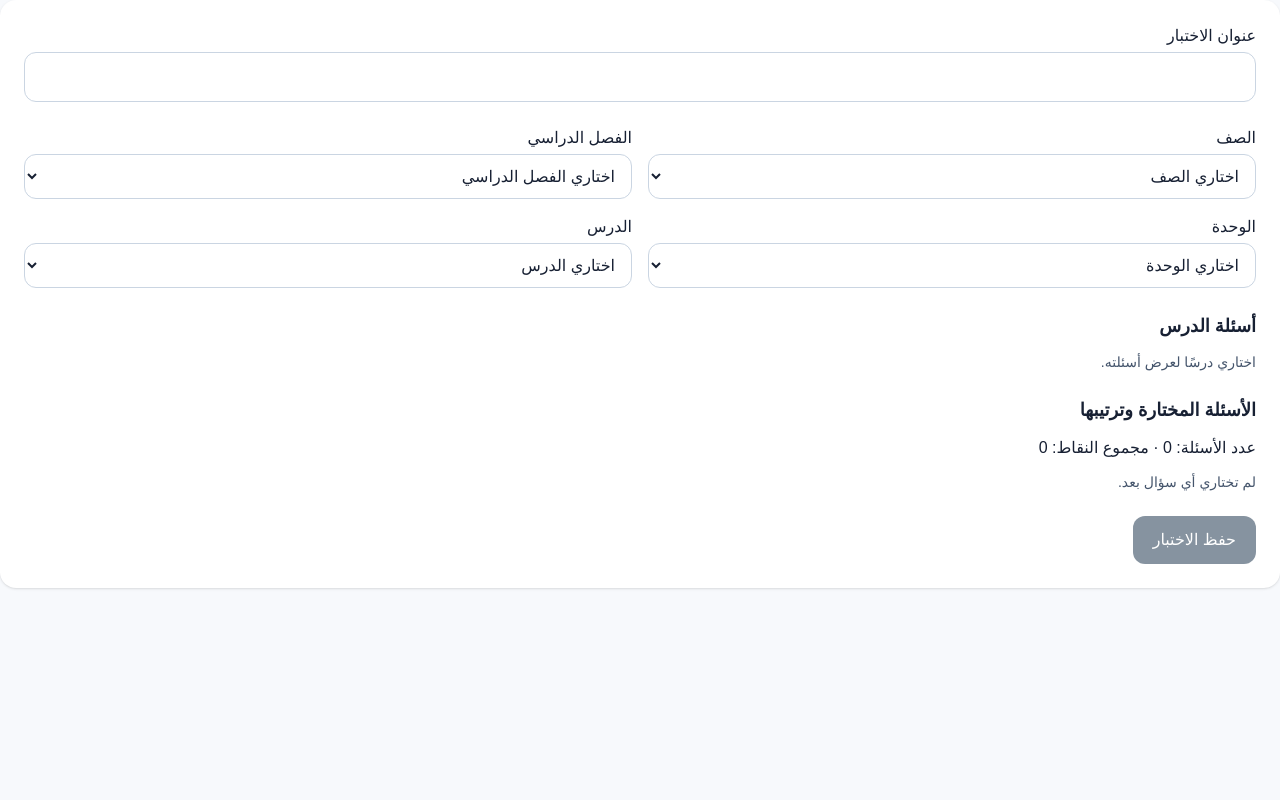
assessment creation form › clears selected questions when the lesson changes
Step 1. Select "الصف السادس" in the dropdown labelled "الصف" → (952,176), box [648, 154, 1256, 199]
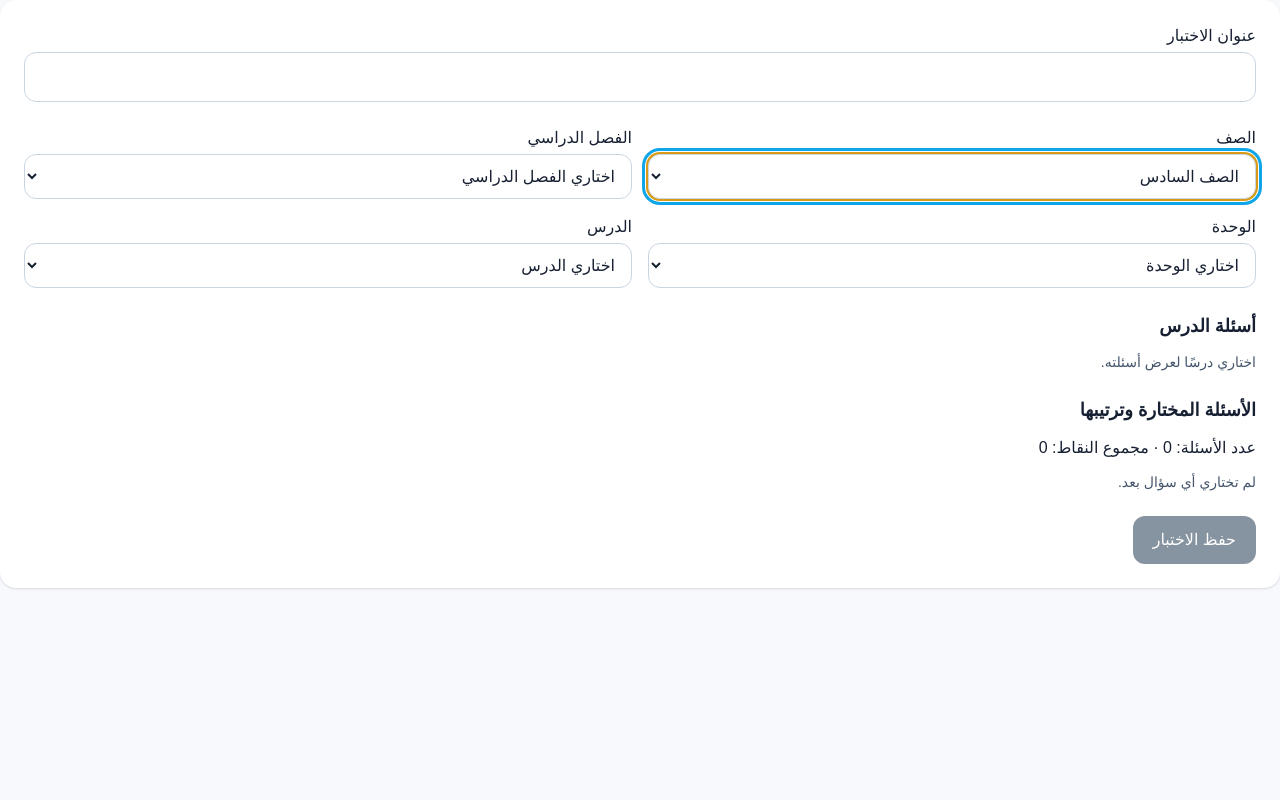
Step 2. Select "الفصل الدراسي الأول ( 2026-2027 )" in the dropdown labelled "الفصل الدراسي" → (328,176), box [24, 154, 632, 199]
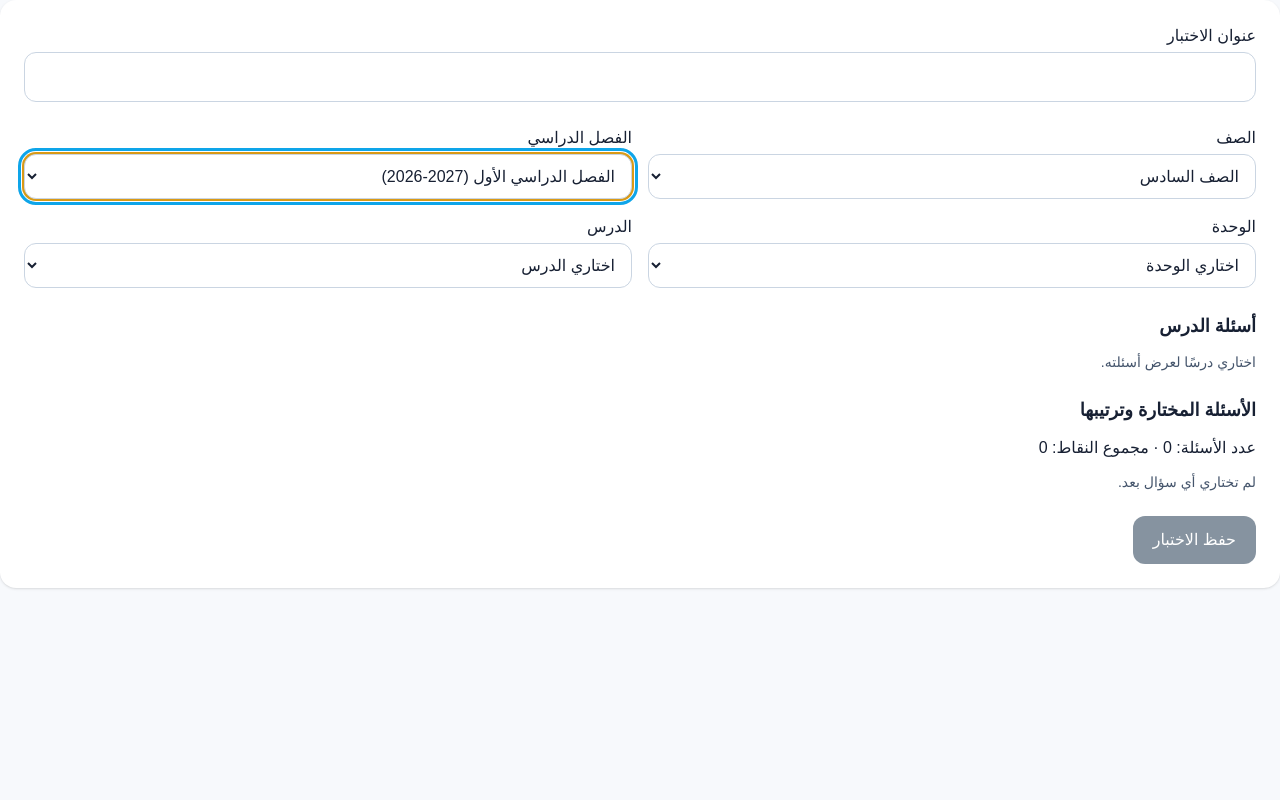
Step 3. Select "من الخلية إلى الجسم" in the dropdown labelled "الوحدة" → (952,266), box [648, 243, 1256, 288]
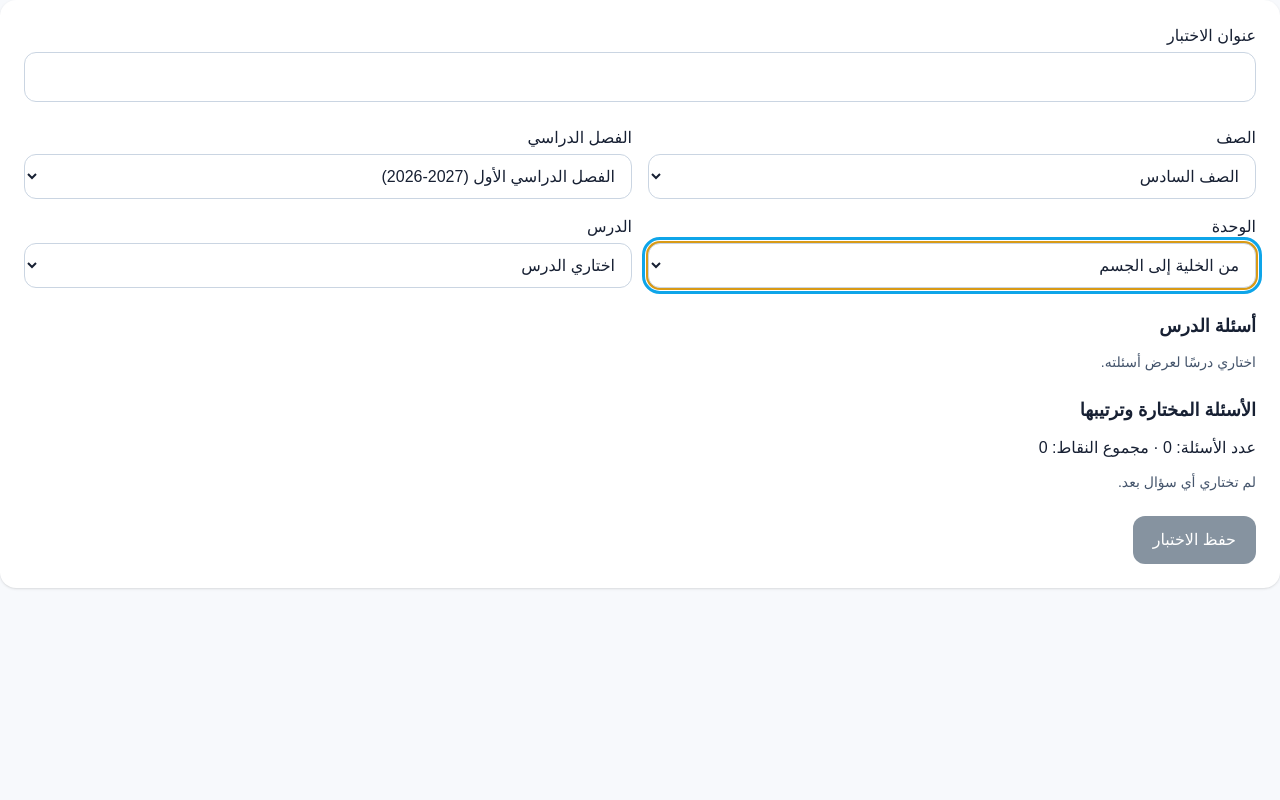
Step 4. Select "الخلية" in the dropdown labelled "الدرس" → (328,266), box [24, 243, 632, 288]
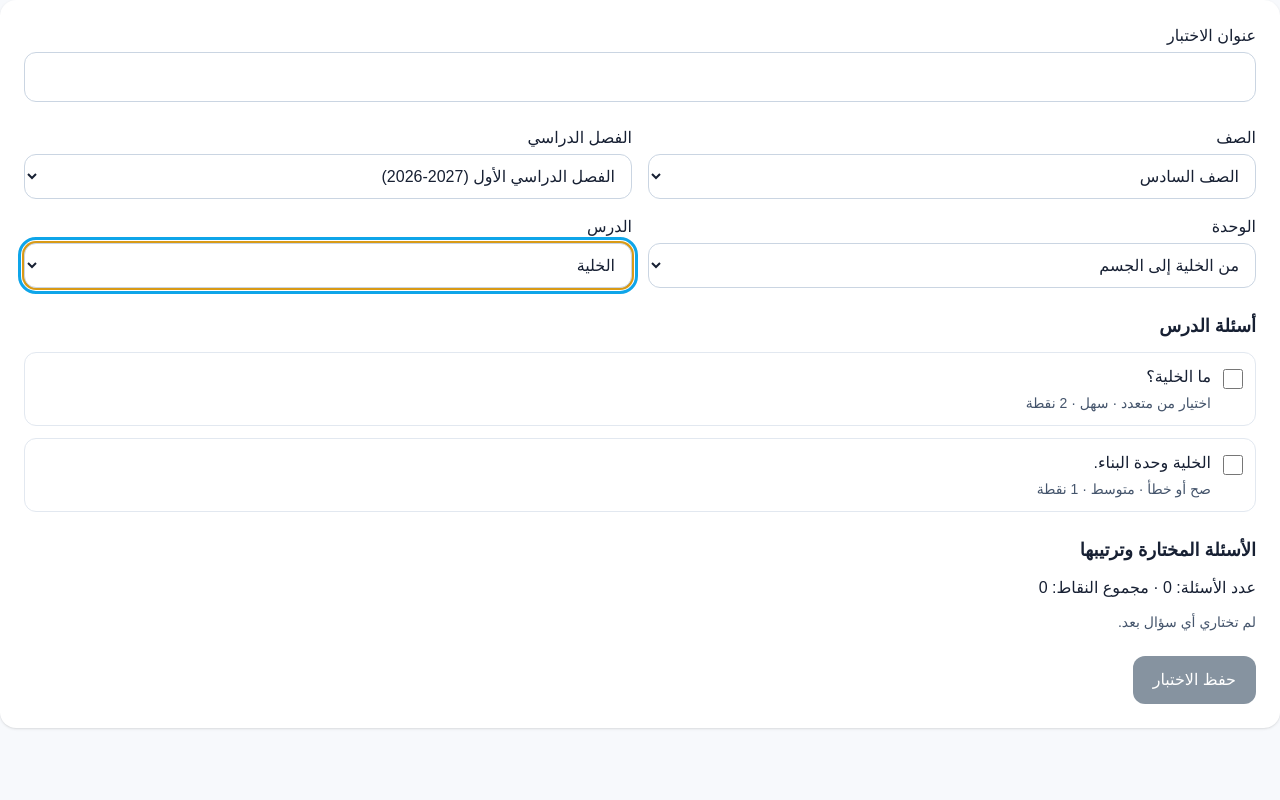
Step 5. Click the checkbox labelled "ما الخلية؟ اختيار من متعدد · سهل · 2 نقطة" → (1233,379), box [1223, 369, 1243, 389]
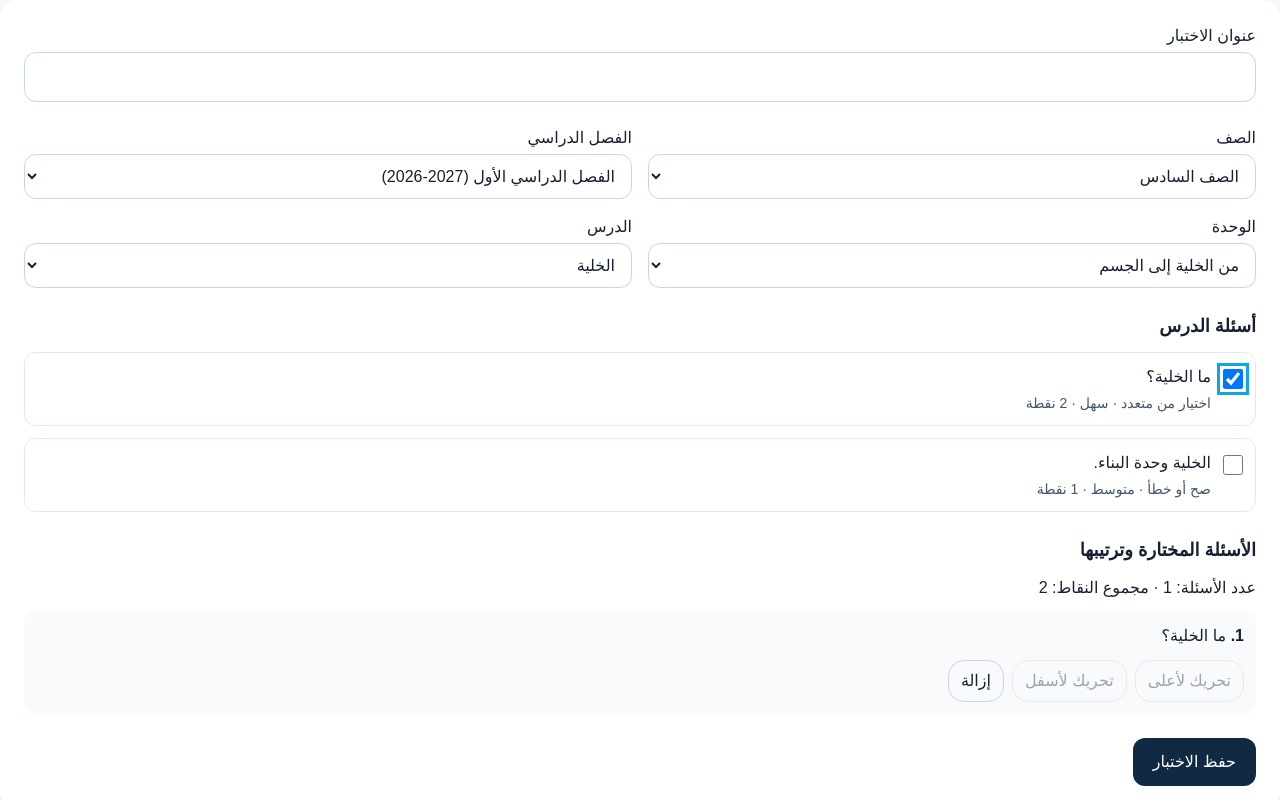
Step 6. Select "درس آخر" in the dropdown labelled "الدرس" → (328,266), box [24, 243, 632, 288]
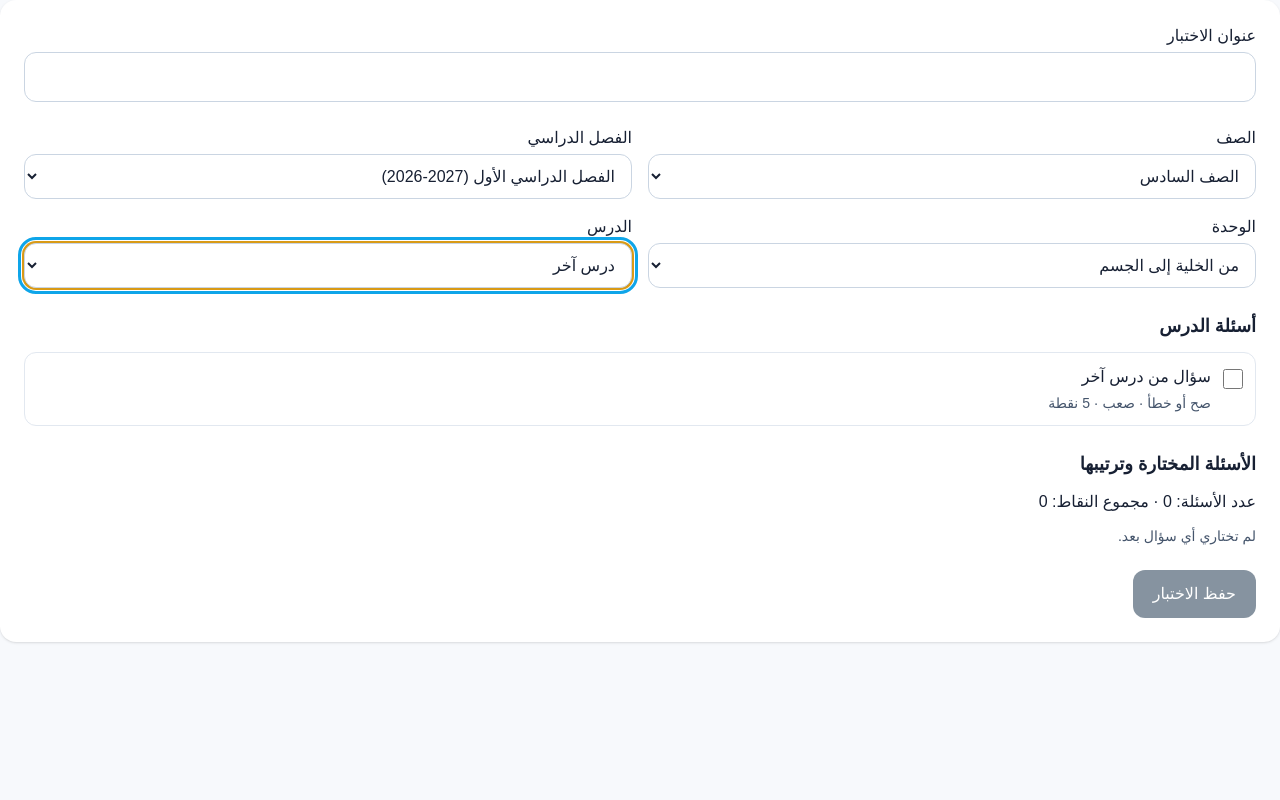
Expected: the text "عدد الأسئلة: 0 · مجموع النقاط: 0" is shown, [1039, 493, 1256, 510]
Expected: the text "سؤال من درس آخر" is shown, [1082, 368, 1211, 385]
